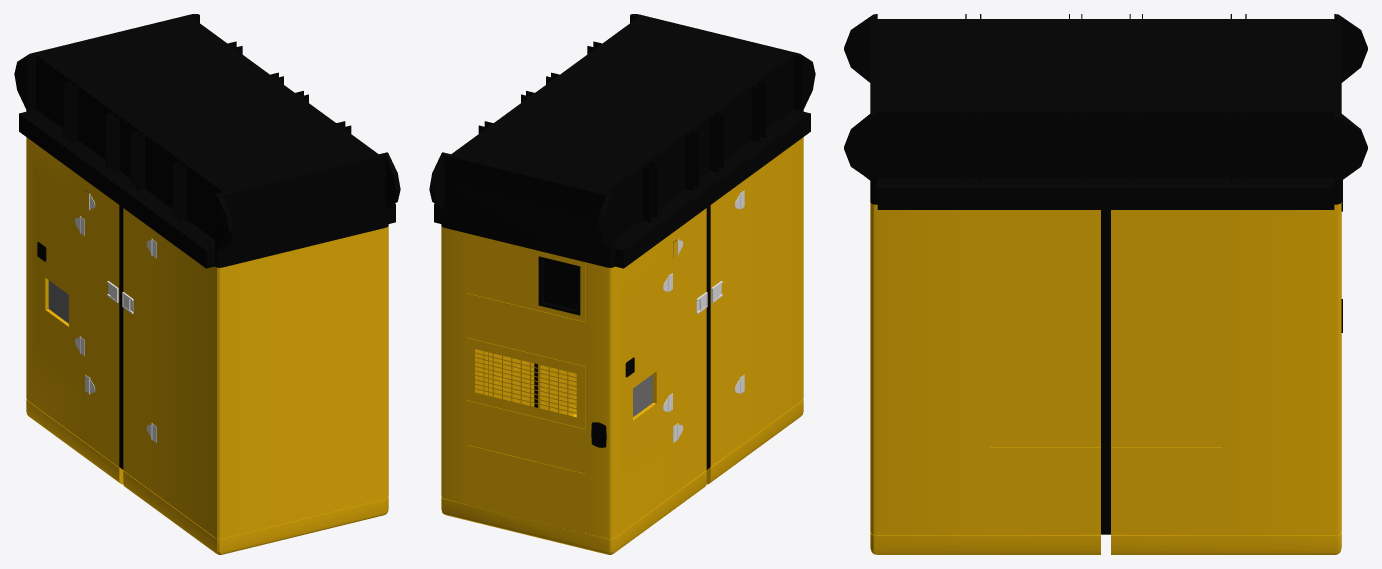
The model's file is gen.fbx.
The picture shows the model from 3 angles, left to right: view 1: azimuth 30°, elevation 25°; view 2: azimuth 150°, elevation 25°; view 3: azimuth 270°, elevation 25°; orthographic projection. The views are drawn at different scales.
Parts seen in each view (by area): view 1: Box027, Group003, Box028; view 2: Box027, Group003, Box028; view 3: Box027, Group003.
Boxes of the visible parts, box(x1,y1,x2,y2) form: Box027: box(26, 137, 388, 554); Group003: box(14, 14, 400, 268); Box028: box(34, 171, 79, 365); Box027: box(441, 137, 803, 554); Group003: box(429, 14, 815, 268); Box028: box(622, 265, 667, 459); Box027: box(870, 180, 1342, 554); Group003: box(844, 14, 1367, 209).
Size of the model in its own units: 30.52 by 59.82 by 55.49.
